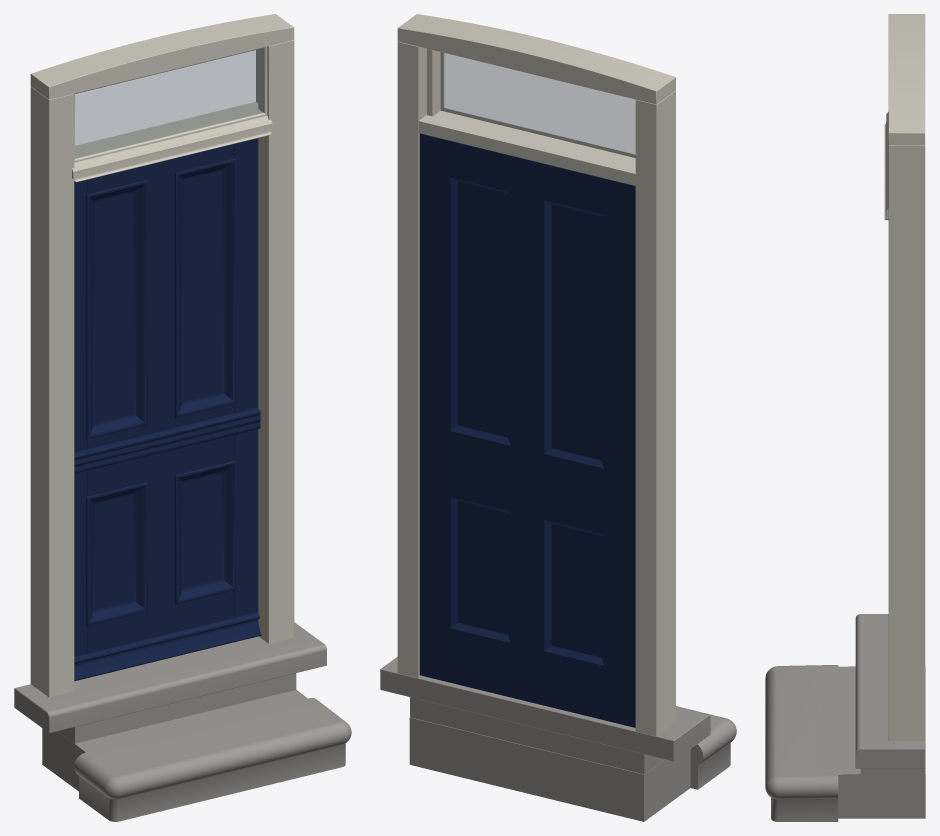
File: door_T1.glb
3 views of the same model, side by side, from view 1: azimuth 30°, elevation 25°; view 2: azimuth 150°, elevation 25°; view 3: azimuth 270°, elevation 25° (orthographic). The views are drawn at different scales.
Visible parts, largest first — view 1: leaf_frame, frame_jamb_L, stone_tread, frame_jamb_R, stone_threshold, glass_fanlight, frame_head, panel_top_left, panel_top_right, moulding_bolection_top_right, moulding_bolection_top_left, frame_transom (+8 smaller); view 2: leaf_frame, frame_jamb_L, frame_jamb_R, stone_tread, panel_top_right, panel_top_left, glass_fanlight, frame_head, stone_threshold, panel_bottom_left, panel_bottom_right, frame_transom (+6 smaller); view 3: frame_jamb_R, stone_tread, stone_threshold, frame_head, frame_transom, stone_riser.
Boxes of the visible parts, <box> form: leaf_frame: <box>74,138,258,656</box>; frame_jamb_L: <box>30,87,74,697</box>; stone_tread: <box>42,689,351,821</box>; frame_jamb_R: <box>256,40,294,643</box>; stone_threshold: <box>14,622,326,733</box>; glass_fanlight: <box>75,48,263,158</box>; frame_head: <box>30,14,294,99</box>; panel_top_left: <box>95,193,132,422</box>; panel_top_right: <box>184,171,221,400</box>; moulding_bolection_top_right: <box>174,158,235,417</box>; moulding_bolection_top_left: <box>86,180,147,439</box>; frame_transom: <box>72,102,272,182</box>; leaf_frame: <box>419,133,635,727</box>; frame_jamb_L: <box>635,91,675,736</box>; frame_jamb_R: <box>397,41,440,678</box>; stone_tread: <box>409,706,736,821</box>; panel_top_right: <box>458,181,508,437</box>; panel_top_left: <box>551,204,601,460</box>; glass_fanlight: <box>441,52,635,157</box>; frame_head: <box>397,14,675,104</box>; stone_threshold: <box>380,657,710,761</box>; panel_bottom_left: <box>551,524,601,657</box>; panel_bottom_right: <box>458,501,508,634</box>; frame_transom: <box>418,110,635,185</box>; frame_jamb_R: <box>888,145,925,740</box>; stone_tread: <box>765,665,925,821</box>; stone_threshold: <box>855,614,925,768</box>; frame_head: <box>888,14,925,145</box>; frame_transom: <box>884,112,888,220</box>; stone_riser: <box>860,768,924,773</box>.
Size of the model in its own units: 1.11 by 2.66 by 0.5543.
